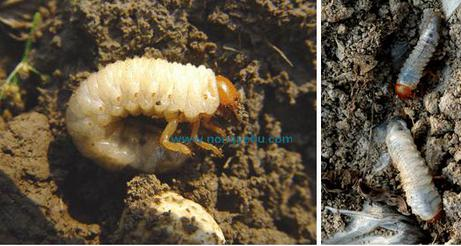grub: (62, 52, 245, 173)
